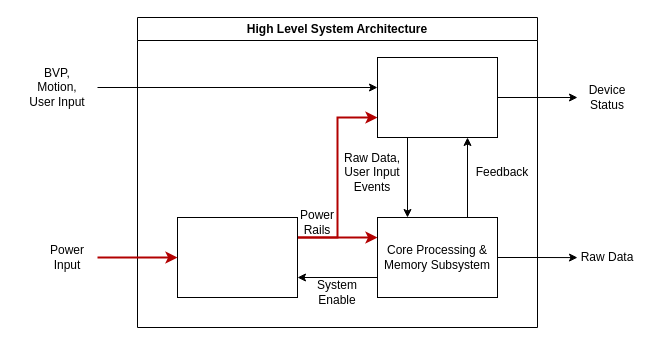
Some shapes in this 654 by 345 pixel diagram are drawn without their labels. Here are the shapes that lost their labels. From the top down, the centre of each, then its label:
the point at 437,97: Sensors & User Interface Subsystem
the point at 237,257: Power Management Subsystem
